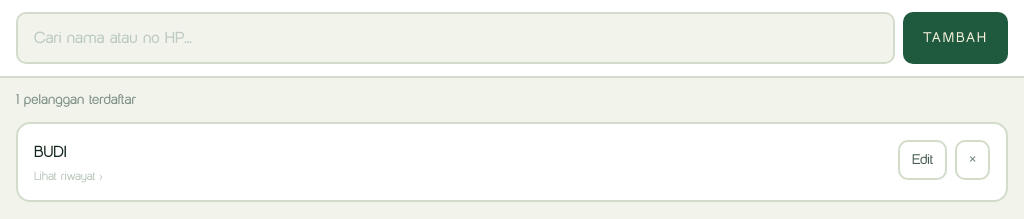
Test: PelangganPage › shows not found message when search has no match
Step 1. Type "zzz" into the field with placeholder "Cari nama atau no HP..." → (456, 38), box [16,12,895,64]
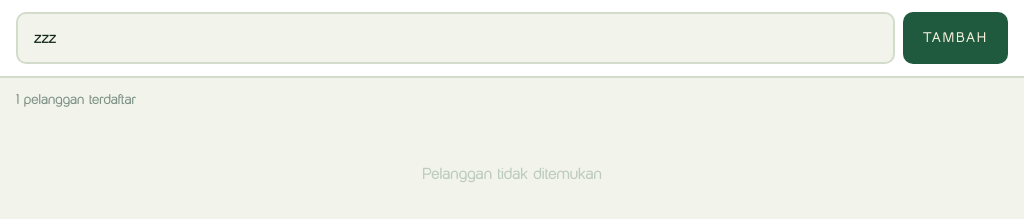
Result: the text "Pelanggan tidak ditemukan" is shown at [422,164,602,183]
